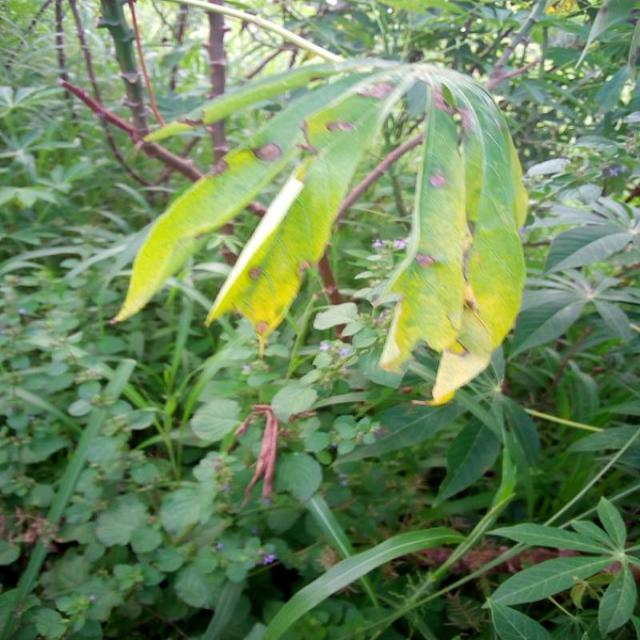cassava leaf: (106, 54, 529, 407)
